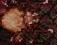spider: (0, 1, 57, 45)
